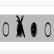correct: (30, 19, 38, 38)
not correct: (14, 14, 27, 40)
